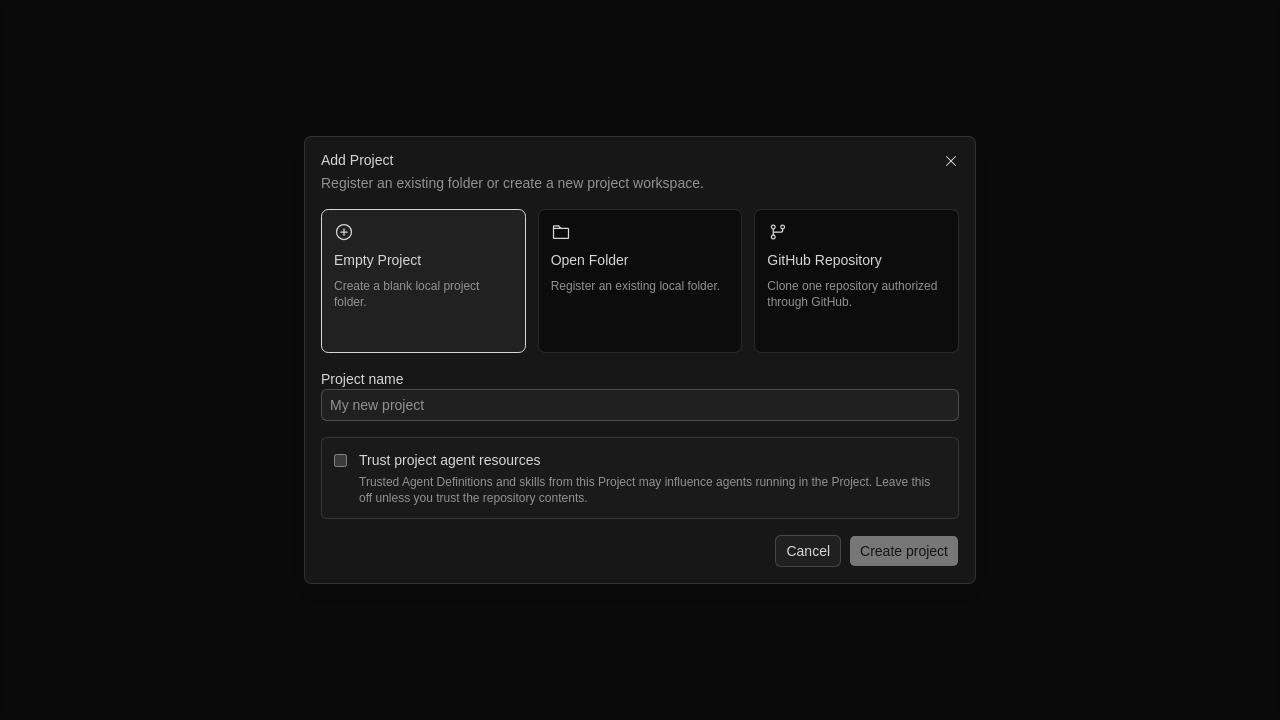
Test: Project repository guidance › explains why a current non-Git folder cannot be registered
Click the button "Open Folder Register an existing local folder." at [640, 281], box [538, 209, 742, 353]
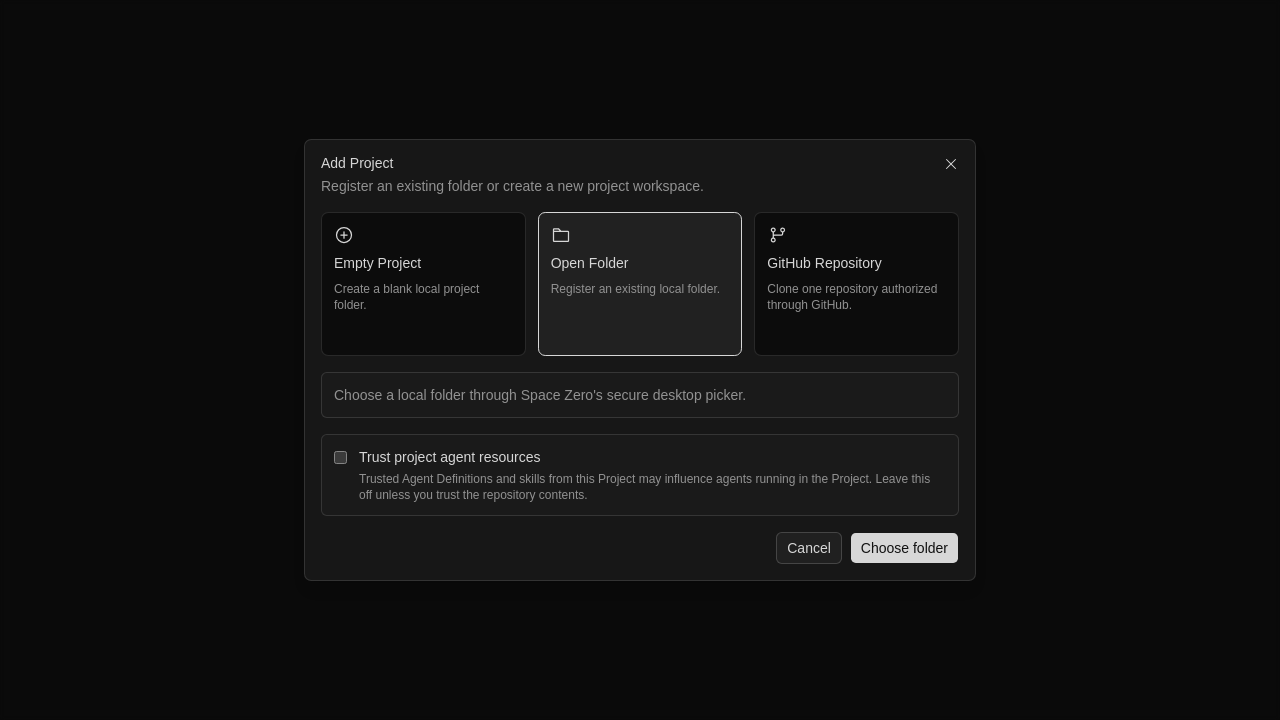
Click the button "Choose folder" at [904, 548], box [850, 532, 959, 564]
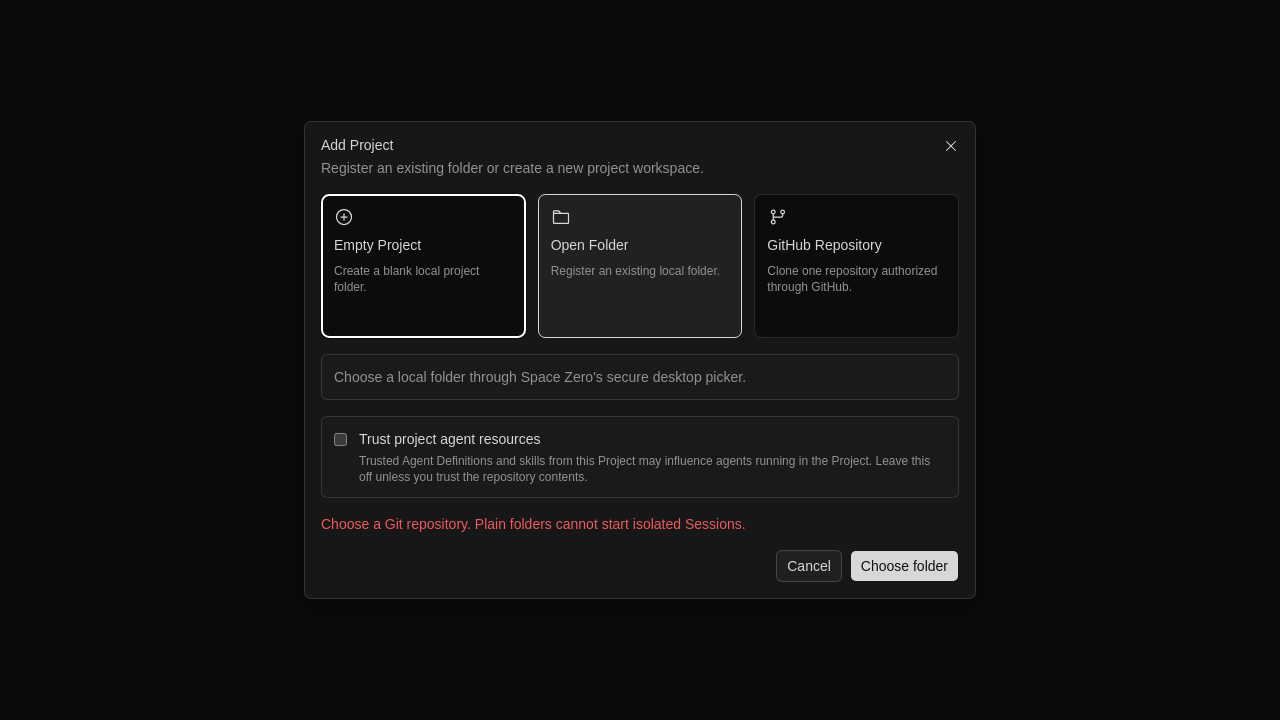
expect the text "Choose a Git repository. Plain folders cannot start isolated Sessions." is shown: met, box [321, 516, 746, 532]
